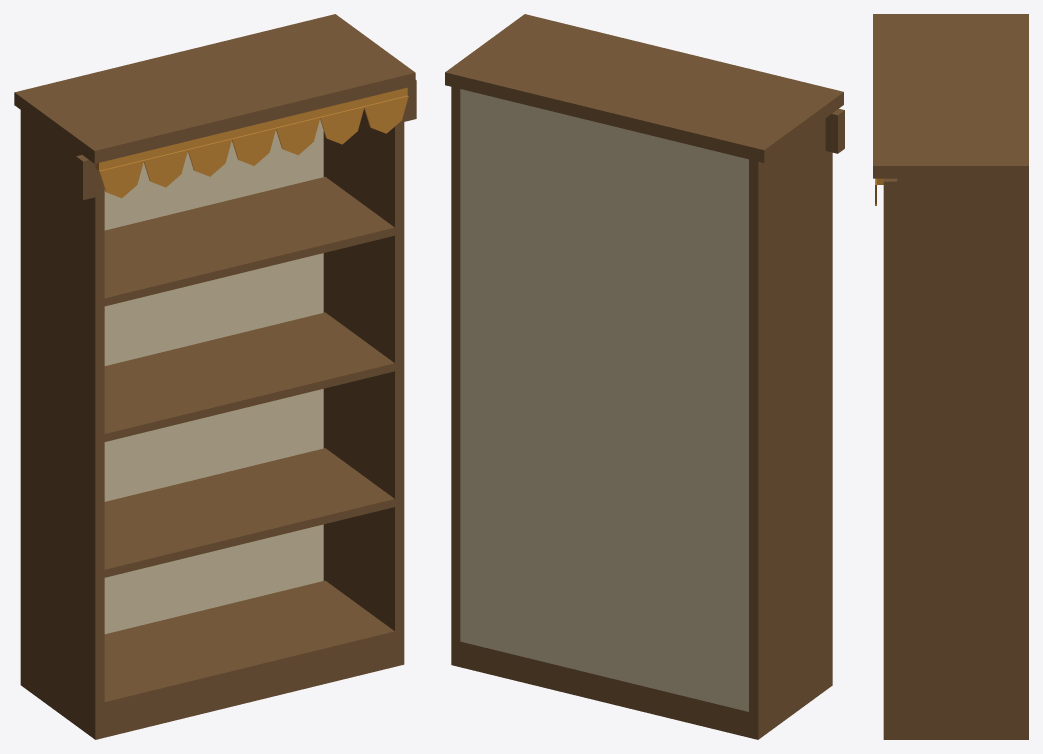
Rendered from Prop_YTM_LinenCupboard.glb.
The picture shows the model from 3 angles, left to right: view 1: azimuth 30°, elevation 25°; view 2: azimuth 150°, elevation 25°; view 3: azimuth 270°, elevation 25°; orthographic projection. The views are drawn at different scales.
Parts seen in each view (by area): view 1: Prop_YTM_LinenCupboard; view 2: Prop_YTM_LinenCupboard; view 3: Prop_YTM_LinenCupboard.
Boxes of the visible parts, <box> form: Prop_YTM_LinenCupboard: <box>14,14,416,739</box>; Prop_YTM_LinenCupboard: <box>445,14,844,739</box>; Prop_YTM_LinenCupboard: <box>873,14,1028,739</box>.
Size of what is drawn, in the model's own units: 1.08 by 1.84 by 0.45.
